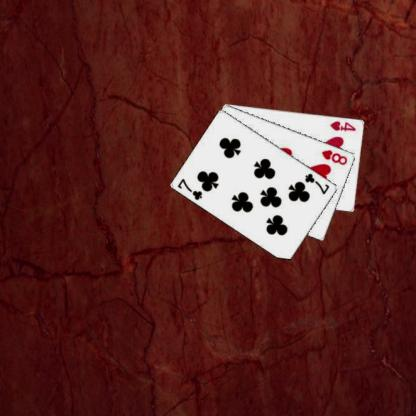4H: (327, 118, 357, 133)
7C: (302, 170, 331, 196), (174, 176, 204, 201)
8H: (319, 147, 349, 166)
